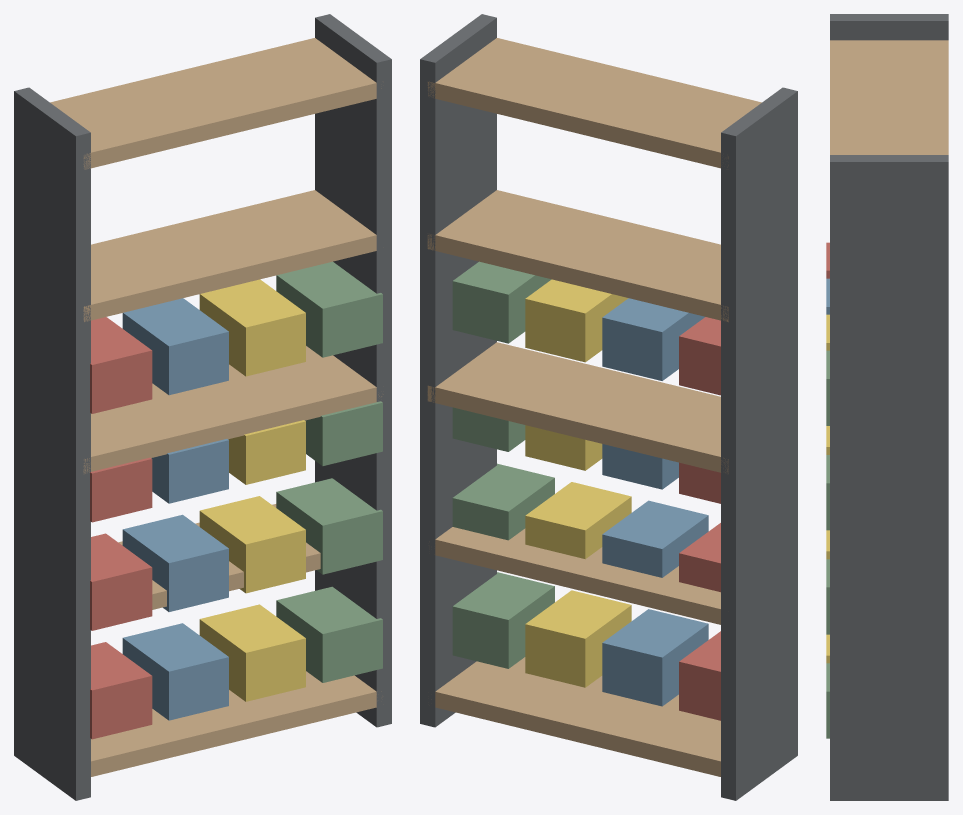
File: parts_rack_02.glb
3 renders of one model, left to right at view 1: azimuth 30°, elevation 25°; view 2: azimuth 150°, elevation 25°; view 3: azimuth 270°, elevation 25°, orthographic. The views are drawn at different scales.
Parts seen in each view (by area): view 1: side-0.45, side0.45, shelf4, shelf3, shelf2, shelf0, bin0_1, bin0_2, bin3_1, bin3_2, bin0_3, bin3_3 (+11 smaller); view 2: side-0.45, side0.45, shelf4, shelf3, shelf2, shelf0, shelf1, bin0_2, bin0_1, bin0_3, bin3_2, bin3_1 (+11 smaller); view 3: side0.45, shelf4, side-0.45, bin0_3, bin1_3, bin2_3, bin3_3.
Part boxes in pixels (<box>): side-0.45: <box>14,87,90,800</box>; side0.45: <box>315,14,391,727</box>; shelf4: <box>50,38,381,169</box>; shelf3: <box>83,190,376,321</box>; shelf2: <box>83,346,383,473</box>; shelf0: <box>91,671,381,776</box>; bin0_1: <box>122,623,228,720</box>; bin0_2: <box>199,604,305,701</box>; bin3_1: <box>122,298,228,395</box>; bin3_2: <box>199,279,305,376</box>; bin0_3: <box>276,586,382,682</box>; bin3_3: <box>276,261,382,357</box>; side-0.45: <box>721,87,797,800</box>; side0.45: <box>420,14,496,727</box>; shelf4: <box>427,38,761,168</box>; shelf3: <box>427,190,728,322</box>; shelf2: <box>427,342,728,473</box>; shelf0: <box>431,657,720,776</box>; shelf1: <box>429,527,720,624</box>; bin0_2: <box>525,590,631,687</box>; bin0_1: <box>602,609,708,706</box>; bin0_3: <box>452,572,554,668</box>; bin3_2: <box>525,279,628,362</box>; bin3_1: <box>602,298,704,380</box>; side0.45: <box>830,155,948,800</box>; shelf4: <box>830,40,948,154</box>; side-0.45: <box>830,14,948,40</box>; bin0_3: <box>826,663,829,738</box>; bin1_3: <box>826,559,829,634</box>; bin2_3: <box>826,455,829,530</box>; bin3_3: <box>826,350,829,425</box>.
Size of the model in its own units: 0.945 by 1.9 by 0.33.
